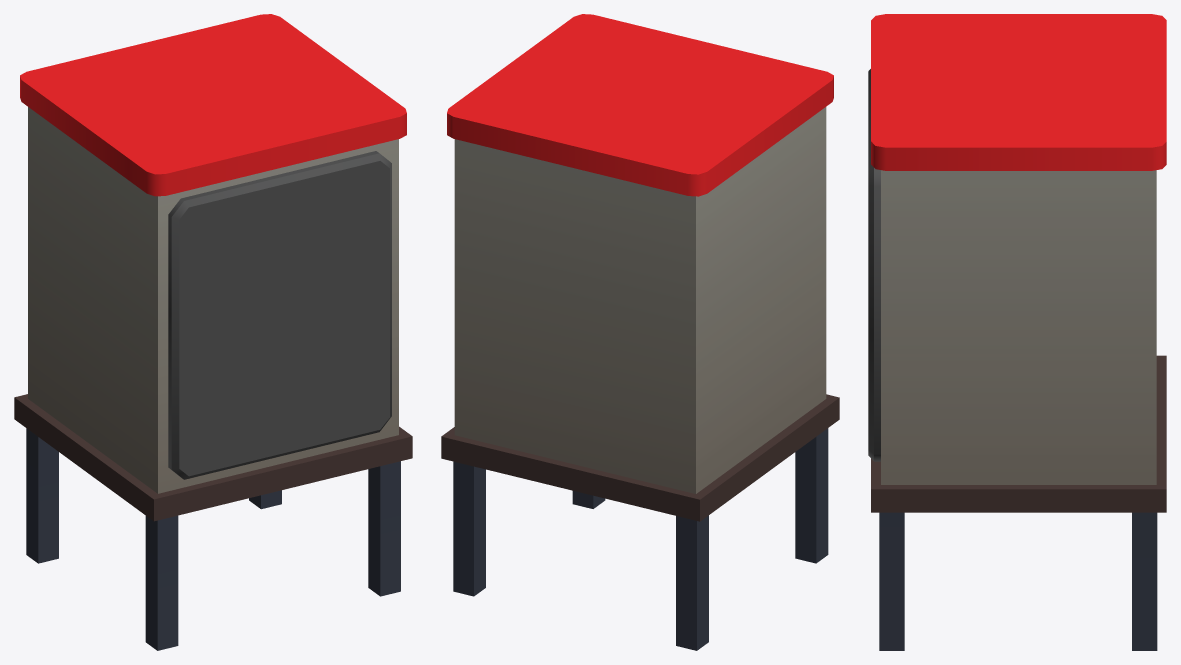
Rendered from ElectricBox_1_A_1.glb.
3 views of the same model, side by side, from view 1: azimuth 30°, elevation 25°; view 2: azimuth 150°, elevation 25°; view 3: azimuth 270°, elevation 25° (orthographic). The views are drawn at different scales.
Parts seen in each view (by area): view 1: ElectricBox_1_A_1; view 2: ElectricBox_1_A_1; view 3: ElectricBox_1_A_1.
Boxes of the visible parts, x1,y1,x2,y2 form: ElectricBox_1_A_1: (14,14,412,650); ElectricBox_1_A_1: (441,14,839,650); ElectricBox_1_A_1: (868,14,1166,650).
Bounding box in the file's own units: 1.29 × 2.29 × 1.22.
Materials: 1 (1 with a texture image).
